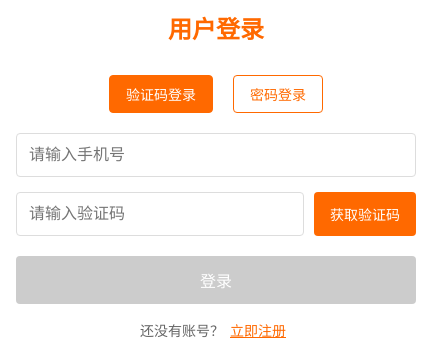
Scenario: LoginForm › 应该在登录过程中显示加载状态
Step 1. Type "13800138000" into the field with placeholder "请输入手机号" → [216, 155], box [16,133,416,177]
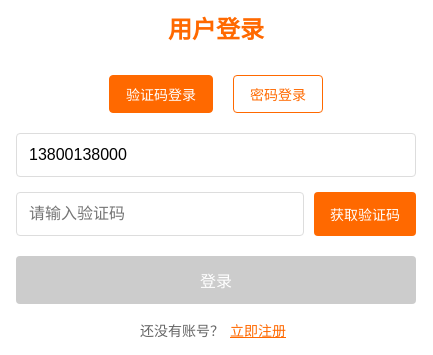
Step 2. Type "123456" into the field with placeholder "请输入验证码" → [160, 214], box [16,192,304,236]
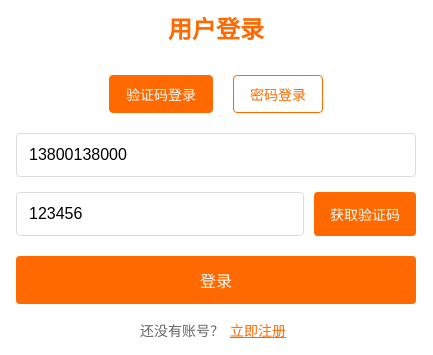
Step 3. Click the button "登录" → [216, 280], box [16,256,416,304]
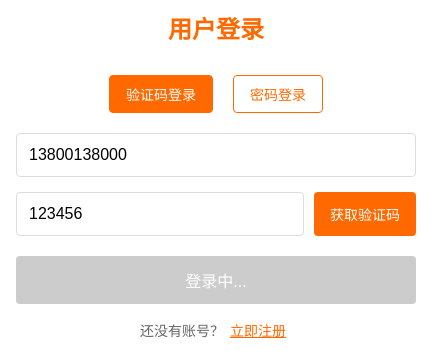
Result: the button "登录中..." is disabled at [16,256,416,304]
